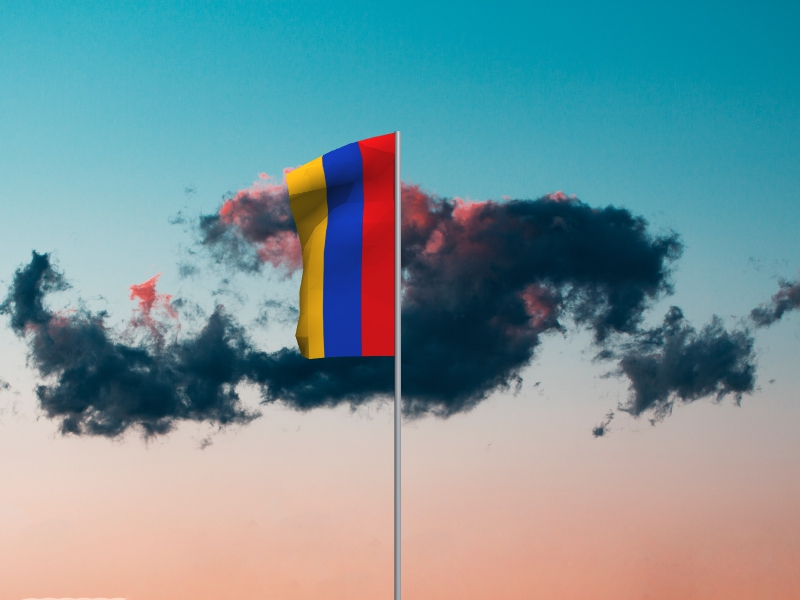am: (286, 134, 395, 361)
